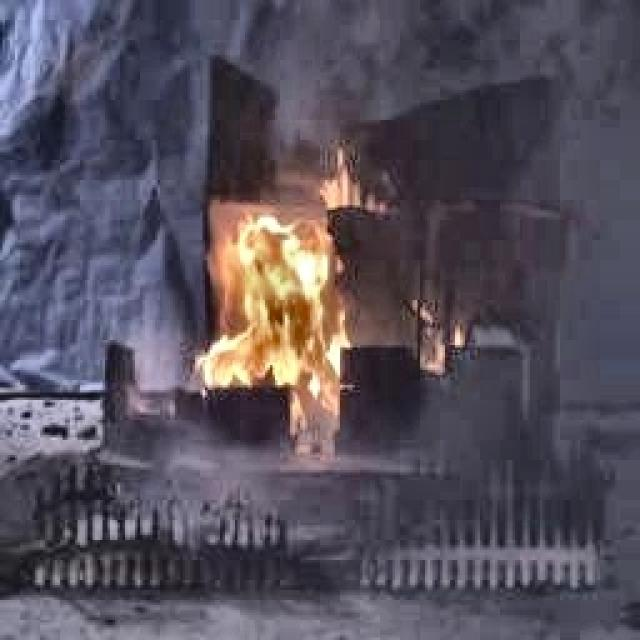fire: (201, 152, 384, 426)
